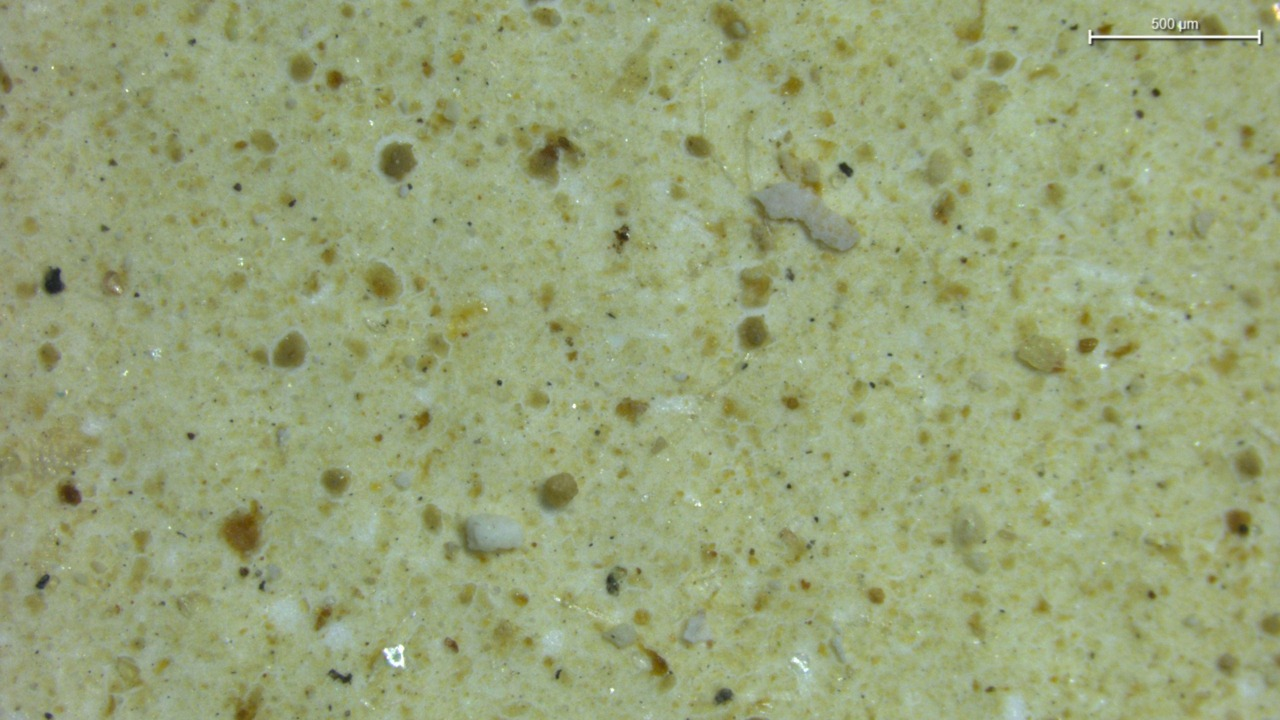microplastic_fragment: (752, 182, 859, 250), (466, 514, 523, 552), (1016, 335, 1066, 373), (683, 611, 713, 643)
